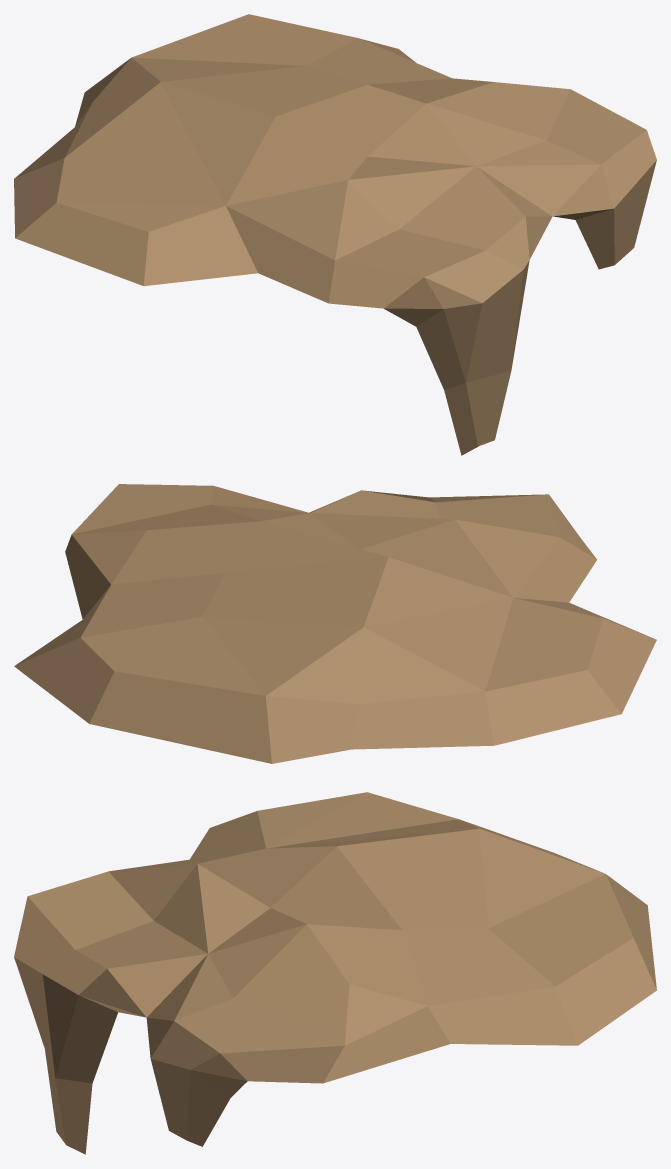
The model's file is SM_Prop_Candle_Blob_01.fbx.
The picture shows the model from 3 angles, top to bottom: view 1: azimuth 30°, elevation 25°; view 2: azimuth 150°, elevation 25°; view 3: azimuth 270°, elevation 25°; orthographic projection. The views are drawn at different scales.
Visible parts, largest first — view 1: SM_Prop_Candle_Blob_01; view 2: SM_Prop_Candle_Blob_01; view 3: SM_Prop_Candle_Blob_01.
Part boxes in pixels (x1,y1,x2,y2): SM_Prop_Candle_Blob_01: (14,14,656,455); SM_Prop_Candle_Blob_01: (14,484,656,763); SM_Prop_Candle_Blob_01: (14,792,656,1154).
Bounding box in the file's own units: 27.95 × 12.37 × 27.19.
